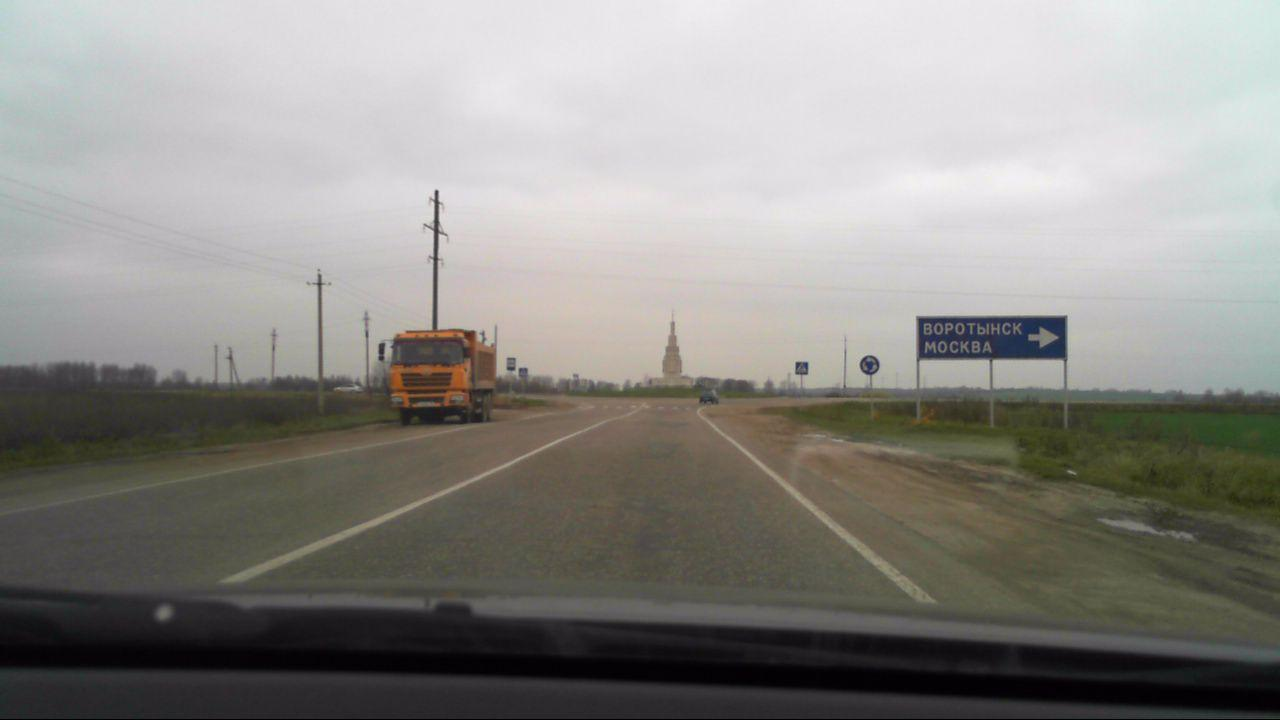4_3: (860, 355, 879, 375)
5_16: (507, 357, 516, 370)
5_19_1: (796, 361, 810, 375)
5_19_2: (520, 368, 527, 377)
6_10_1: (917, 318, 1066, 362)
